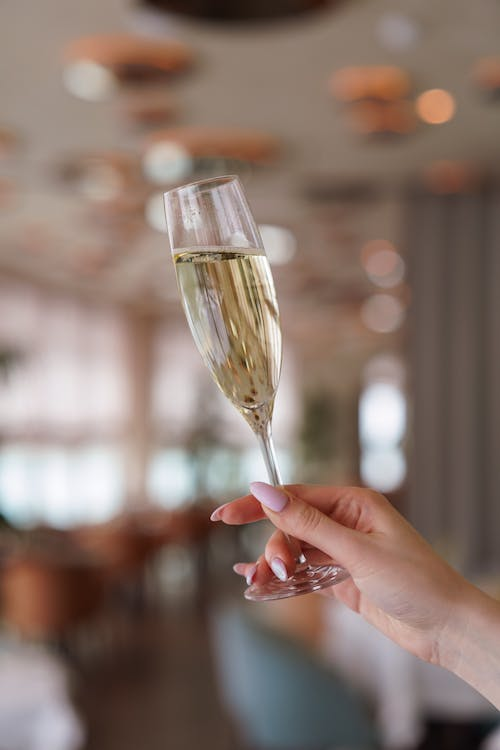alcohol: (160, 172, 352, 603)
